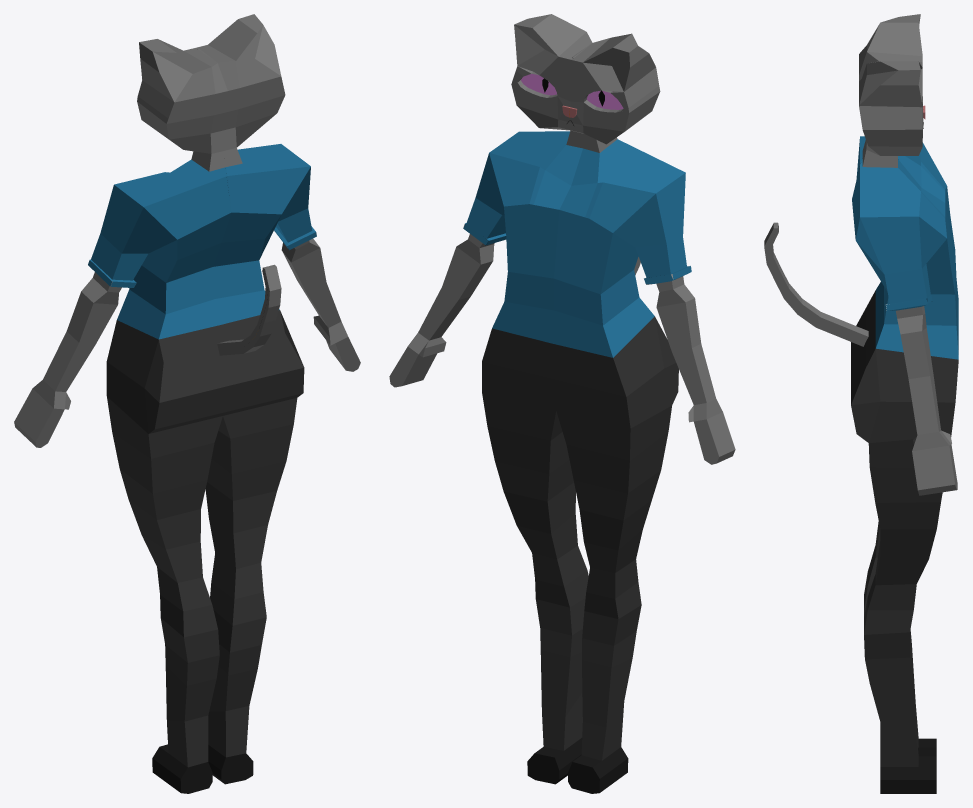
File: NPC1.fbx
3 views of the same model, side by side, from view 1: azimuth 30°, elevation 25°; view 2: azimuth 150°, elevation 25°; view 3: azimuth 270°, elevation 25° (orthographic).
Parts seen in each view (by area): view 1: NPC1; view 2: NPC1; view 3: NPC1.
Boxes of the visible parts, <box> form: NPC1: <box>14,14,360,793</box>; NPC1: <box>389,14,735,793</box>; NPC1: <box>764,14,958,793</box>.
Size of the model in its own units: 532 by 1144 by 274.
Materials: 1 (1 with a texture image).
